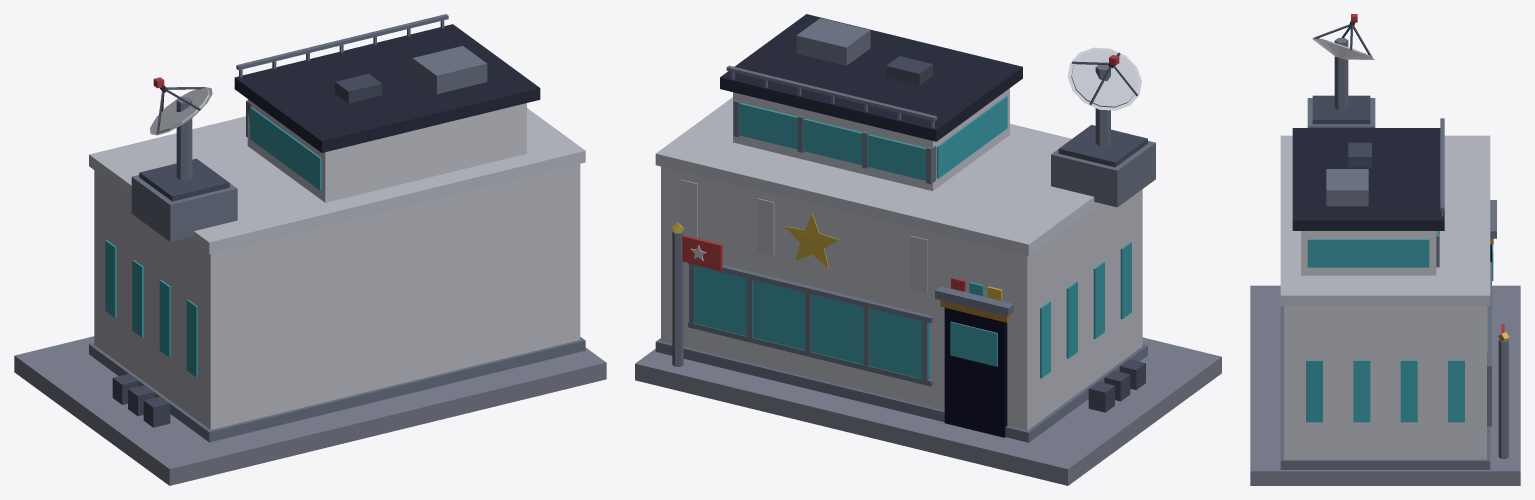
The model's file is Decor_Observatory_Control.fbx.
3 views of the same model, side by side, from view 1: azimuth 30°, elevation 25°; view 2: azimuth 150°, elevation 25°; view 3: azimuth 270°, elevation 25° (orthographic). The views are drawn at different scales.
Visible parts, largest first — view 1: Control_Body; view 2: Control_Body; view 3: Control_Body.
Part boxes in pixels (x1,y1,x2,y2): Control_Body: (14, 14, 606, 485); Control_Body: (635, 14, 1221, 485); Control_Body: (1250, 14, 1520, 485).
Bounding box in the file's own units: 26 × 19.95 × 16.
